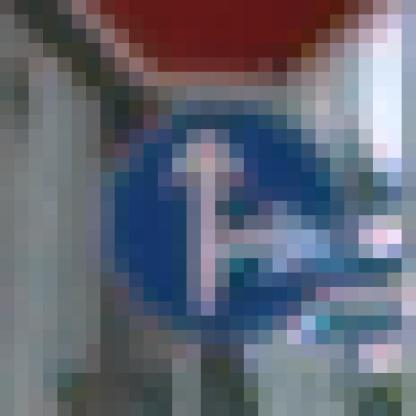Straight or Right: (87, 73, 345, 345)
